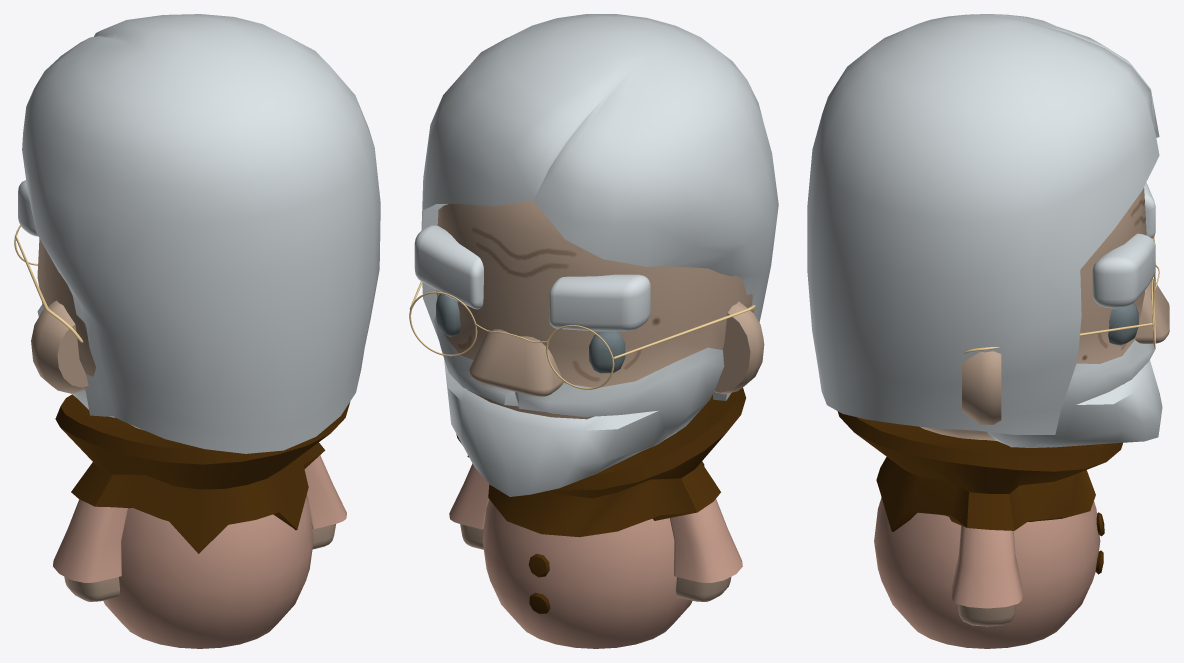
The model's file is WiseOldMan.fbx.
3 renders of one model, left to right at view 1: azimuth 30°, elevation 25°; view 2: azimuth 150°, elevation 25°; view 3: azimuth 270°, elevation 25°, orthographic.
Parts seen in each view (by area): view 1: rogueHairC, character_jack, character_jack.001, character_barbarianHead__1_, character_jackArmLeft_, character_jackArmRight, glasses frame; view 2: rogueHairC, character_barbarianHead__1_, character_jack, character_jack.001, character_jackArmLeft_, character_jackArmRight, glasses frame; view 3: rogueHairC, character_barbarianHead__1_, character_jack.001, character_jack, character_jackArmRight, glasses frame.
Part boxes in pixels (x1,y1,x2,y2): rogueHairC: (22, 14, 380, 453); character_jack: (103, 497, 313, 648); character_jack.001: (55, 394, 349, 553); character_barbarianHead__1_: (18, 180, 143, 430); character_jackArmLeft_: (53, 499, 127, 601); character_jackArmRight: (304, 455, 346, 549); glasses frame: (14, 225, 83, 342); rogueHairC: (421, 14, 778, 400); character_barbarianHead__1_: (414, 200, 764, 496); character_jack: (482, 499, 692, 648); character_jack.001: (456, 387, 745, 537); character_jackArmLeft_: (669, 499, 742, 601); character_jackArmRight: (449, 463, 489, 549); glasses frame: (409, 281, 755, 389); rogueHairC: (807, 14, 1159, 434); character_barbarianHead__1_: (920, 183, 1169, 447); character_jack.001: (837, 411, 1122, 531); character_jack: (874, 497, 1104, 648); character_jackArmRight: (951, 525, 1022, 626); glasses frame: (964, 236, 1159, 353).
Bounding box in the file's own units: 1.18 × 1.98 × 1.12.
